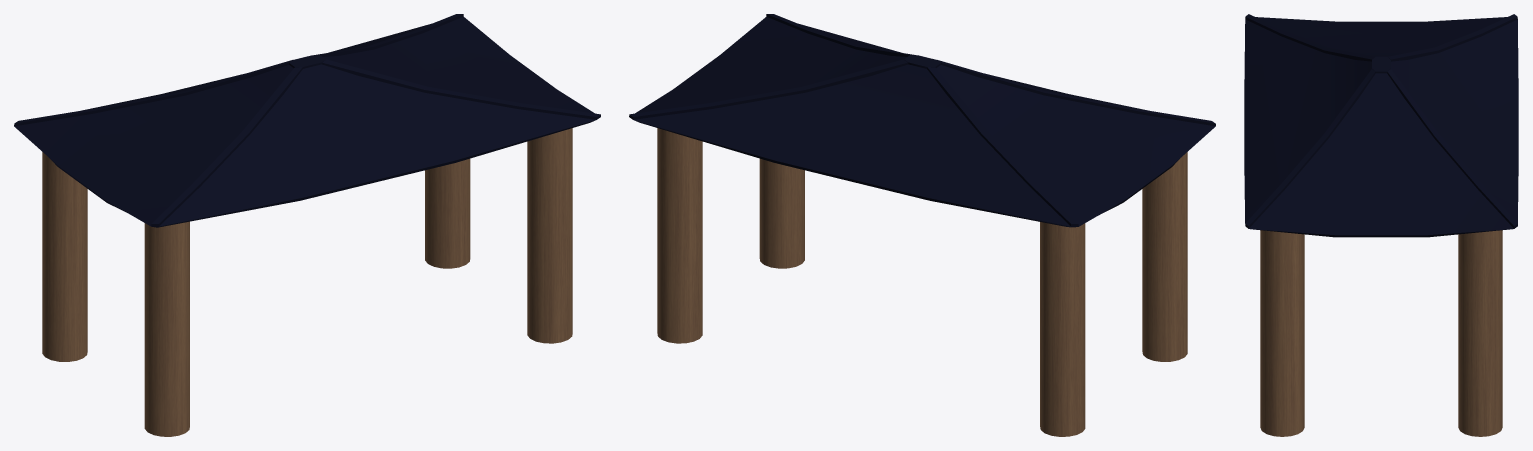
The model's file is sanmon.obj.
3 renders of one model, left to right at view 1: azimuth 30°, elevation 25°; view 2: azimuth 150°, elevation 25°; view 3: azimuth 270°, elevation 25°, orthographic. The views are drawn at different scales.
Parts seen in each view (by area): view 1: 立方体.002; view 2: 立方体.002; view 3: 立方体.002.
Boxes of the visible parts, x1=… form: 立方体.002: x1=14, y1=14, x2=600, y2=436; 立方体.002: x1=629, y1=14, x2=1215, y2=436; 立方体.002: x1=1244, y1=14, x2=1518, y2=436.
Bounding box in the file's own units: 16.18 × 9.65 × 8.78.
Materials: 1 (1 with a texture image).
